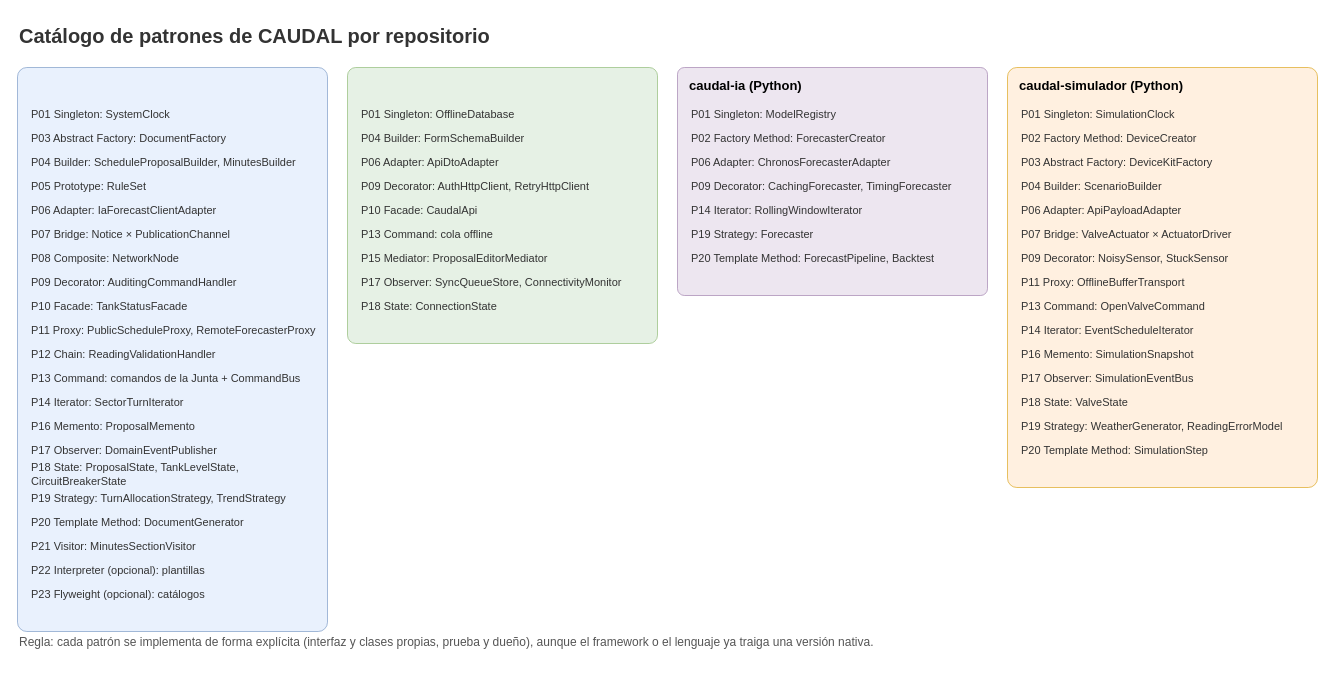
Image size: 1335x674. Some labels were removed from this diagram. The box of each missing label's shape, as (x1, y1, x2, y2) in pixels:
caudal-backend (Java): (16, 66, 328, 632)
caudal-frontend (TypeScript): (346, 66, 658, 344)
